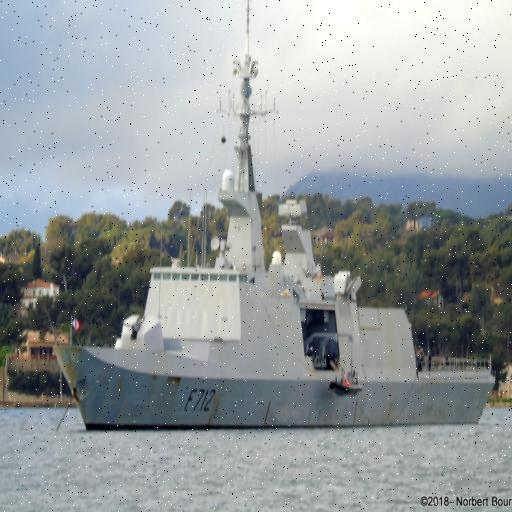Fragata: (50, 1, 495, 442)
